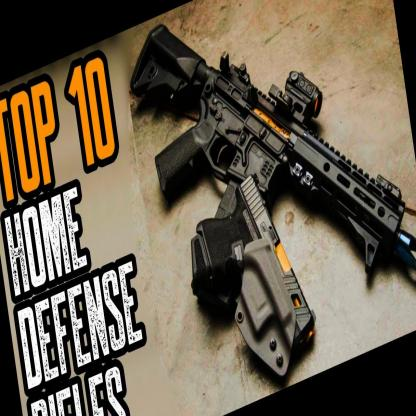rifle: (125, 0, 323, 257)
